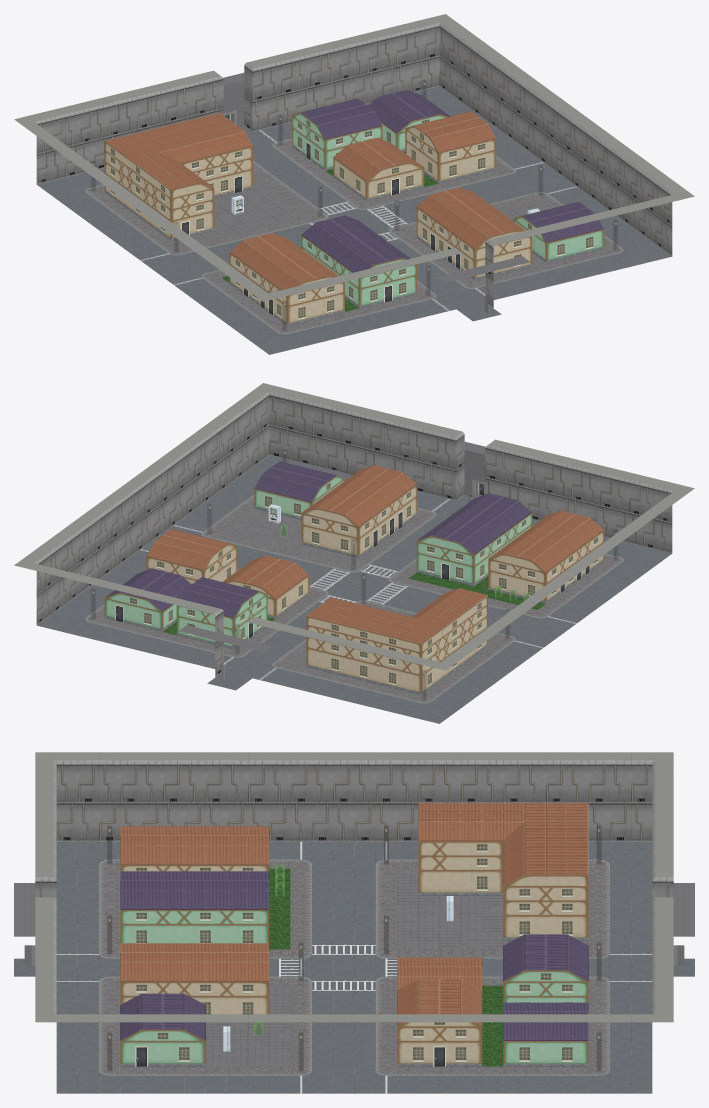
File: building.glb
3 views of the same model, one above another, from view 1: azimuth 30°, elevation 25°; view 2: azimuth 150°, elevation 25°; view 3: azimuth 270°, elevation 25° (orthographic). The views are drawn at different scales.
Parts seen in each view (by area): view 1: Town_0; view 2: Town_0; view 3: Town_0.
Part boxes in pixels (<box>): Town_0: <box>14,14,694,354</box>; Town_0: <box>14,383,694,723</box>; Town_0: <box>14,752,694,1093</box>.
Size of the model in its own units: 72 by 10 by 76.8.
2 materials, 2 textured.
